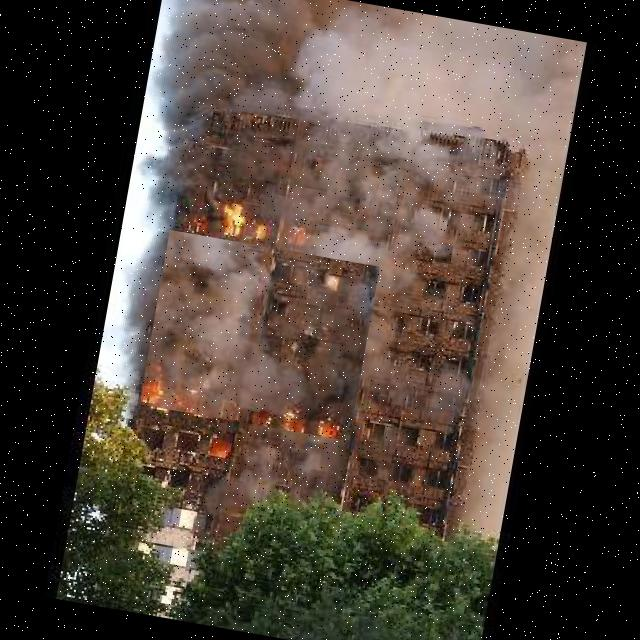fire: (139, 230, 379, 440), (175, 192, 303, 244)
